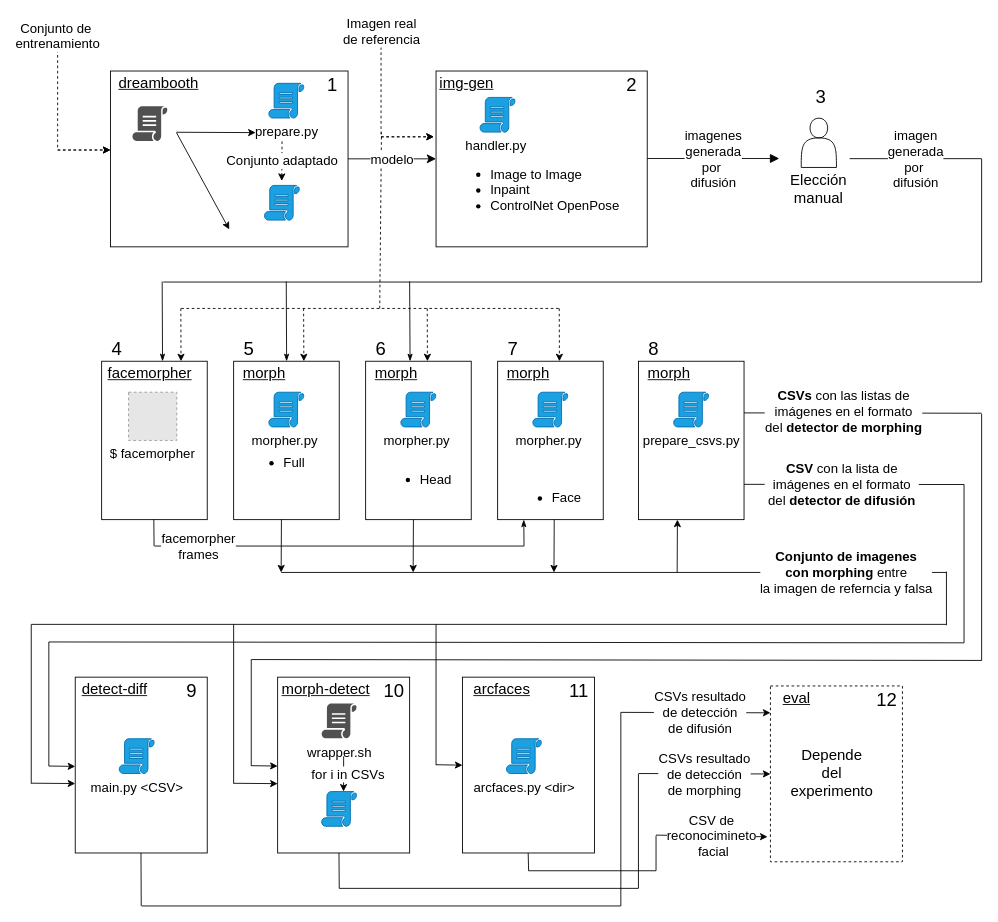
The diagram is 998 pixels wide and 922 high, and some of its shapes have lost their labels. Grey dashed boxes stand in for pictures. The shapes that lost their labels are listed below. From the top down, each one's centre as x and y in pixels, then its label:
point (149, 123): train.sh
point (282, 202): train_dreambooth.py
point (339, 808): test.py <CSV>
